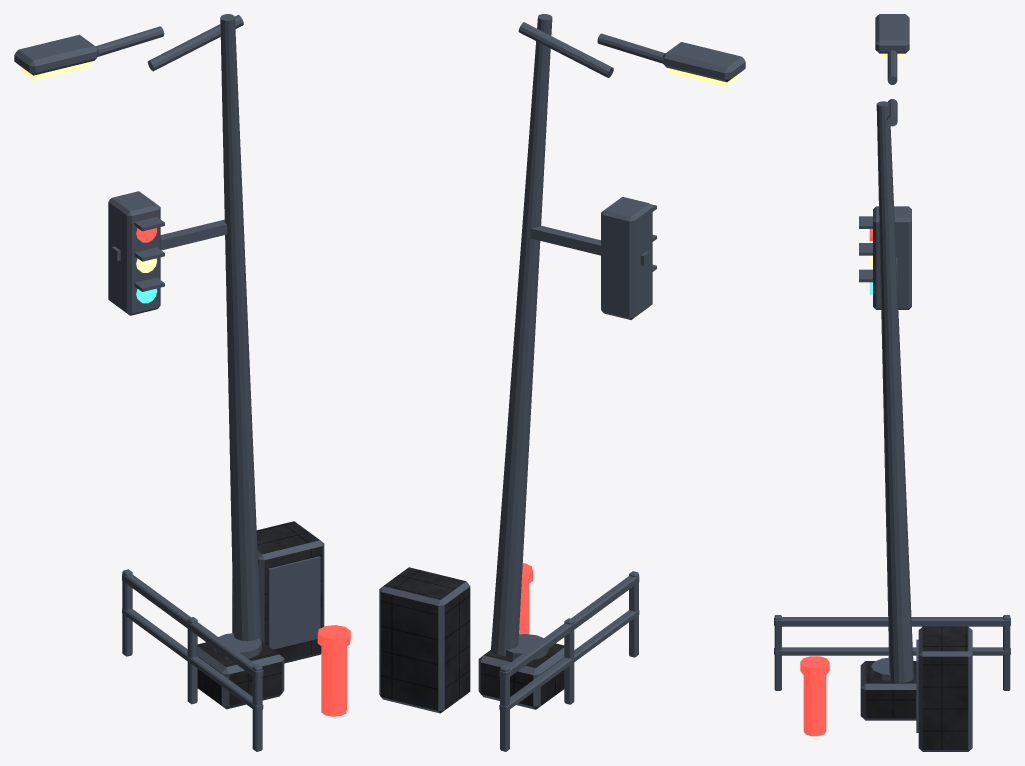
File: street_props_hq.glb
The picture shows the model from 3 angles, left to right: view 1: azimuth 30°, elevation 25°; view 2: azimuth 150°, elevation 25°; view 3: azimuth 270°, elevation 25°; orthographic projection. The views are drawn at different scales.
Visible parts, largest first — view 1: StreetPropsHQ; view 2: StreetPropsHQ; view 3: StreetPropsHQ.
Boxes of the visible parts, x1,y1,x2,y2 form: StreetPropsHQ: (14, 14, 350, 751); StreetPropsHQ: (379, 14, 745, 751); StreetPropsHQ: (774, 14, 1010, 751).
Bounding box in the file's own units: 3.97 × 8.17 × 2.9.
5 materials, 1 textured.
